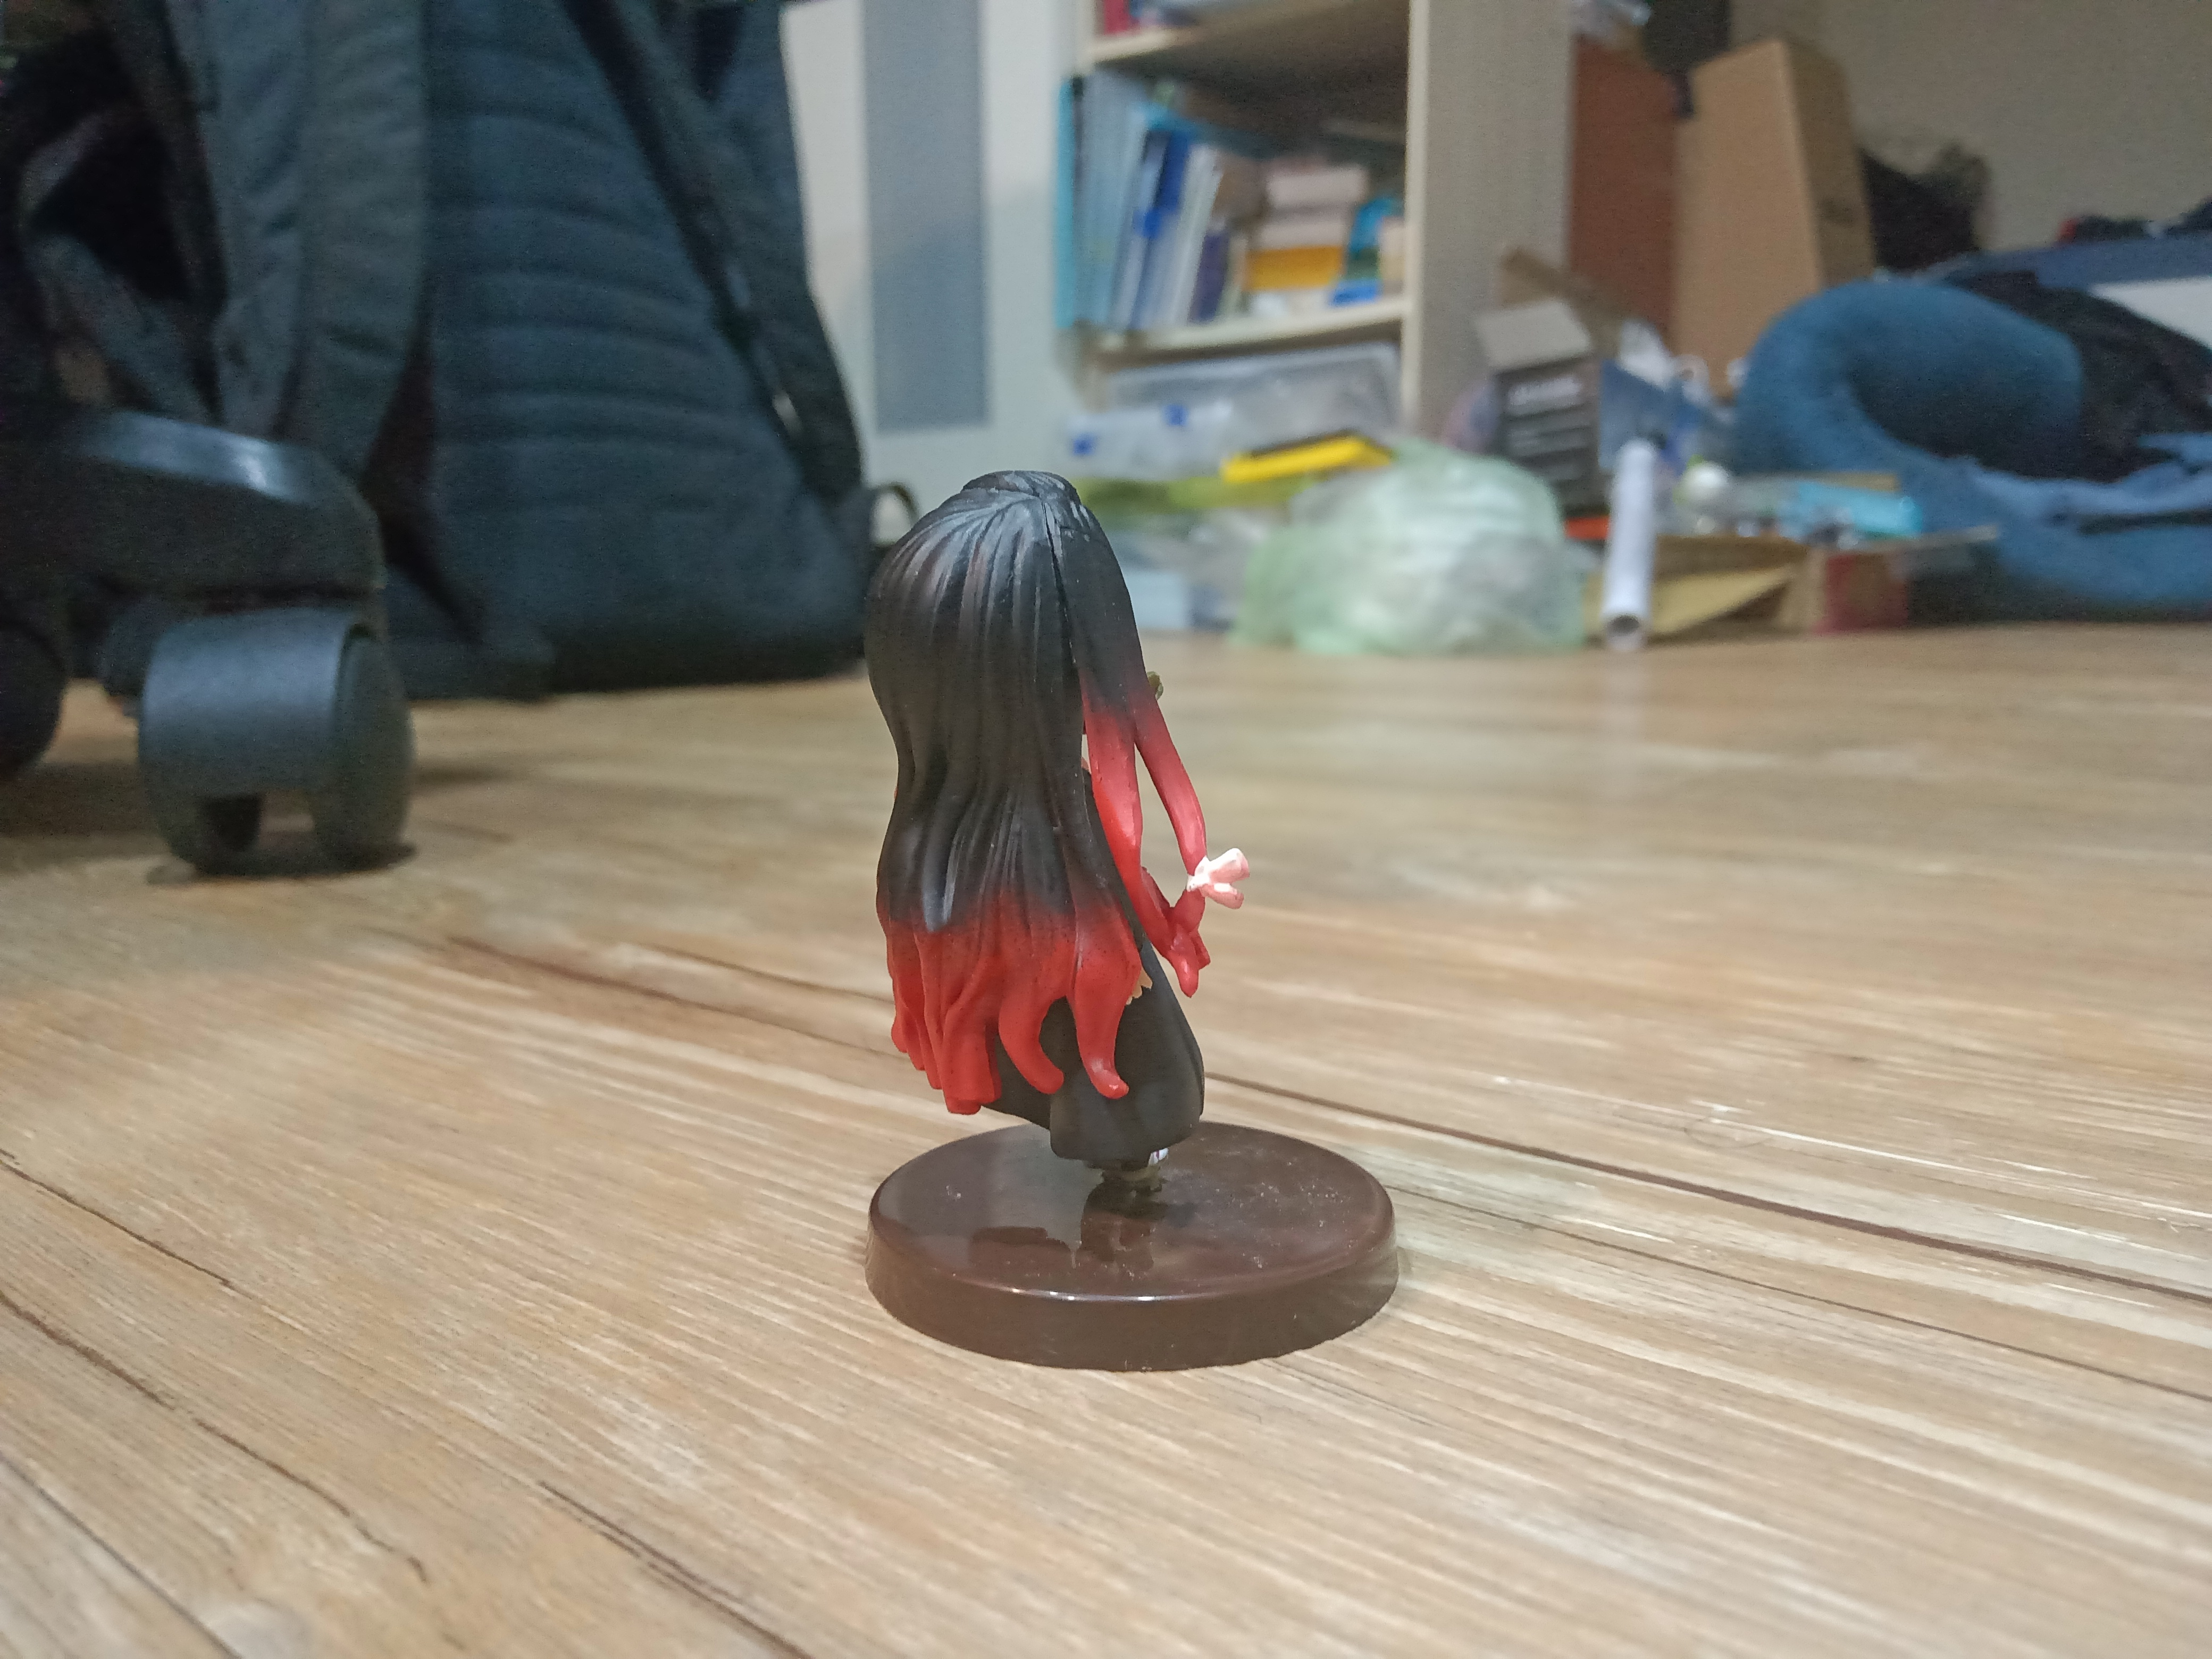Nezuko: (843, 453, 1432, 1387)
